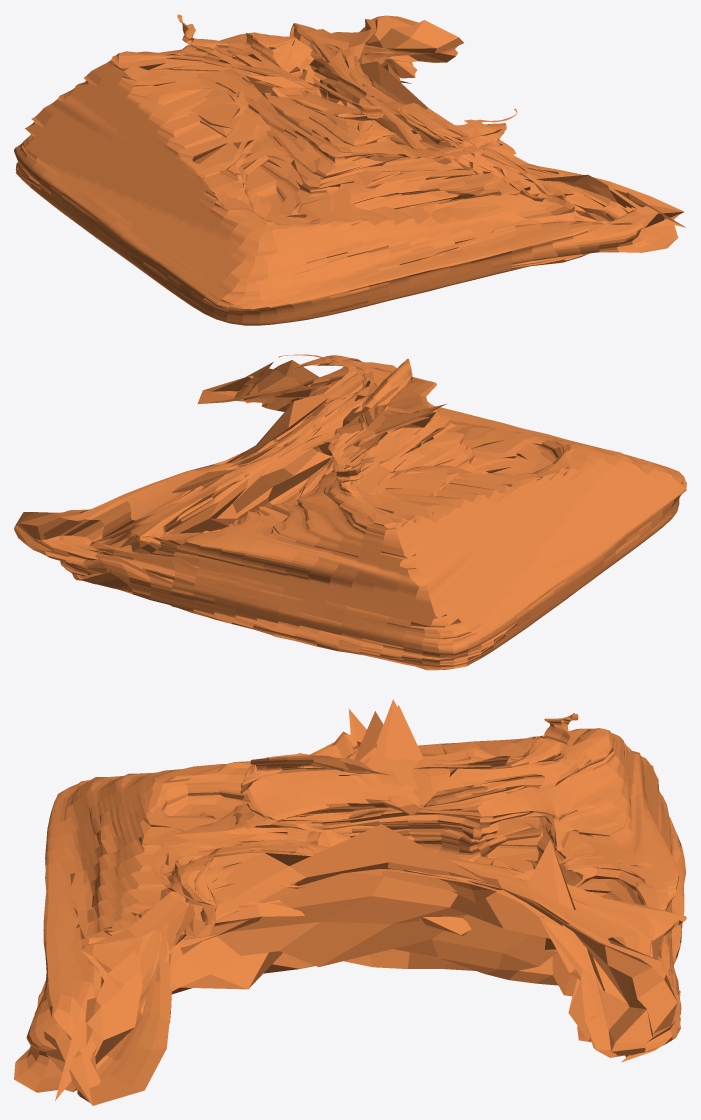
Rendered from mountain 1.fbx.
3 views of the same model, one above another, from view 1: azimuth 30°, elevation 25°; view 2: azimuth 150°, elevation 25°; view 3: azimuth 270°, elevation 25° (orthographic). The views are drawn at different scales.
Visible parts, largest first — view 1: Cube; view 2: Cube; view 3: Cube.
Boxes of the visible parts, left/top/right/bottom form: Cube: left=14, top=14, right=685, bottom=325; Cube: left=14, top=354, right=686, bottom=670; Cube: left=14, top=699, right=686, bottom=1105.
Size of the model in its own units: 4393 by 1344 by 4151.
